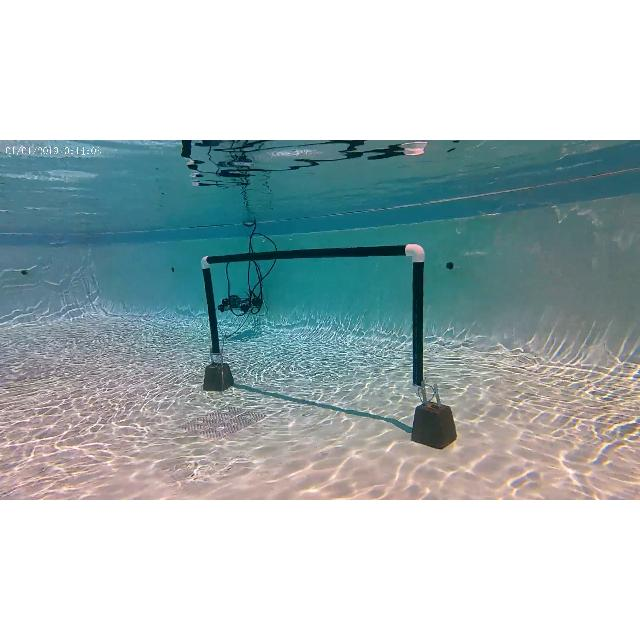prequal gate: (202, 244, 424, 392)
prequal gate leg l: (198, 254, 228, 356)
prequal gate leg r: (401, 244, 427, 396)
